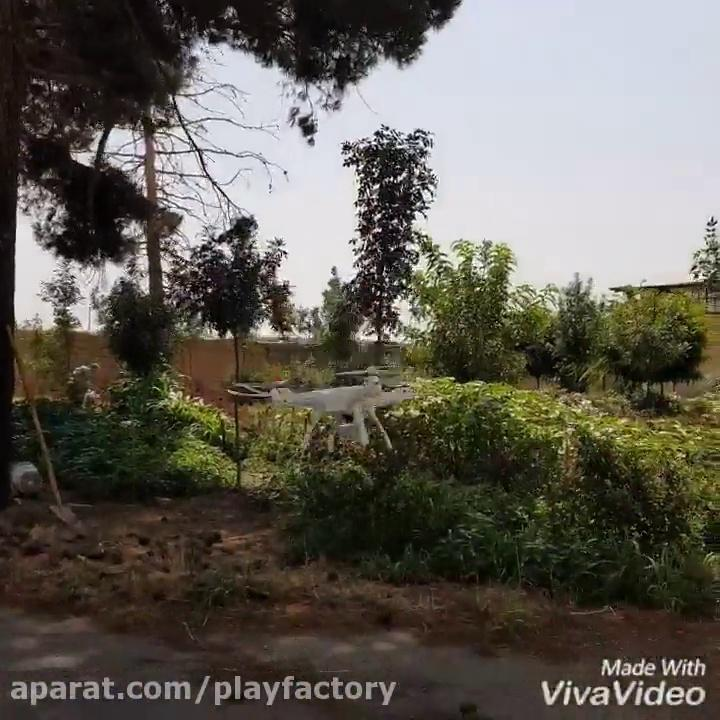drone: (226, 365, 422, 447)
